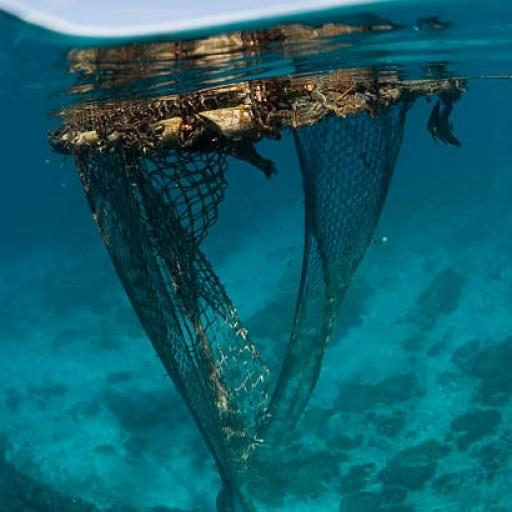net: (44, 62, 470, 504)
